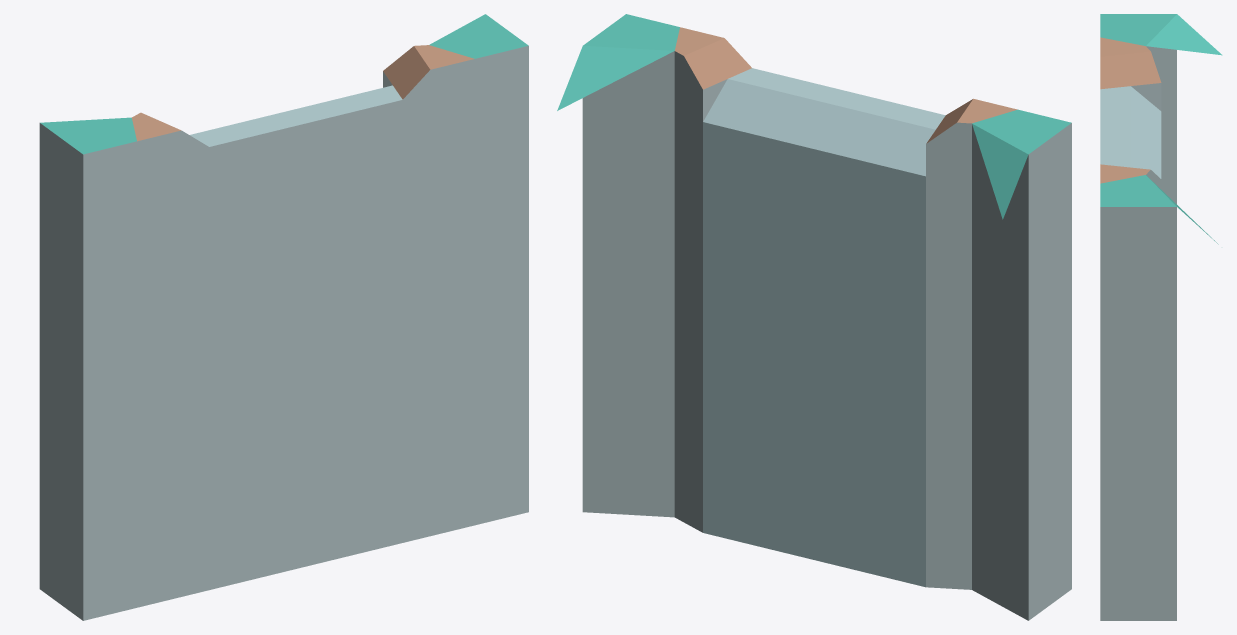
File: cliff_waterfallTop_stone.glb
3 renders of one model, left to right at view 1: azimuth 30°, elevation 25°; view 2: azimuth 150°, elevation 25°; view 3: azimuth 270°, elevation 25°, orthographic. The views are drawn at different scales.
Visible parts, largest first — view 1: cliff_waterfallTop_stone; view 2: cliff_waterfallTop_stone; view 3: cliff_waterfallTop_stone.
Boxes of the visible parts, x1=… form: cliff_waterfallTop_stone: x1=39, y1=14, x2=528, y2=620; cliff_waterfallTop_stone: x1=557, y1=14, x2=1071, y2=620; cliff_waterfallTop_stone: x1=1100, y1=14, x2=1222, y2=620.
Bounding box in the file's own units: 1 × 1 × 0.2685.
